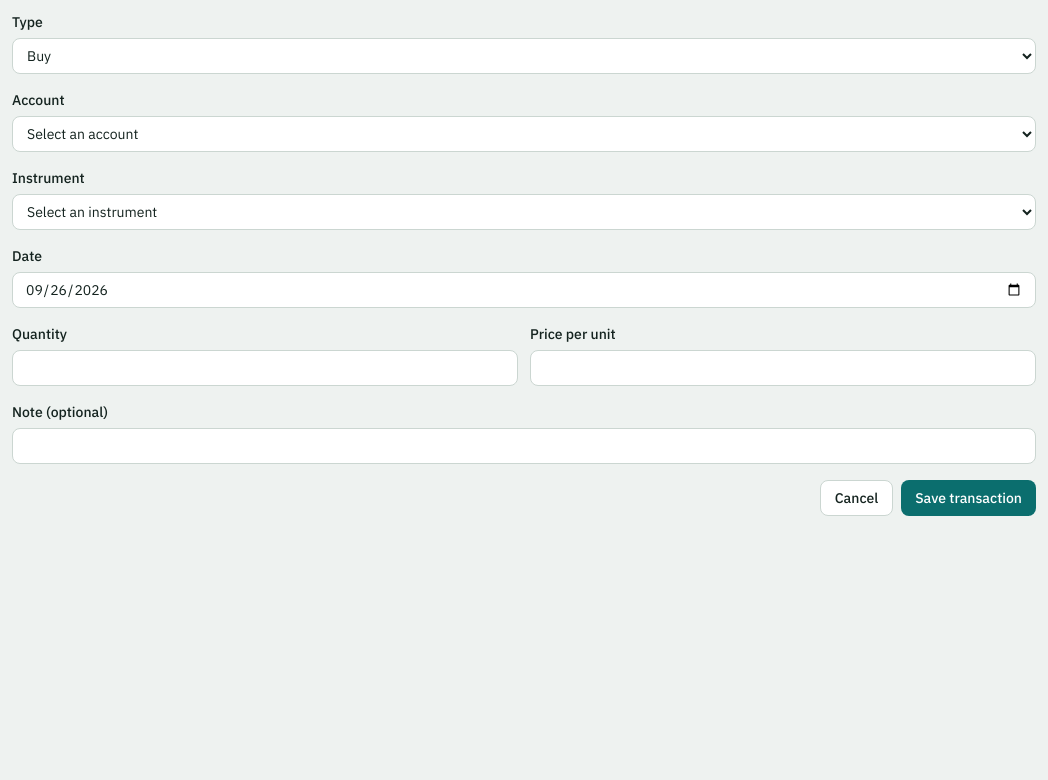
it: TransactionForm › requires an account and an instrument
Click the button "Save transaction" at coordinates (969, 498), box [901,480,1036,516]
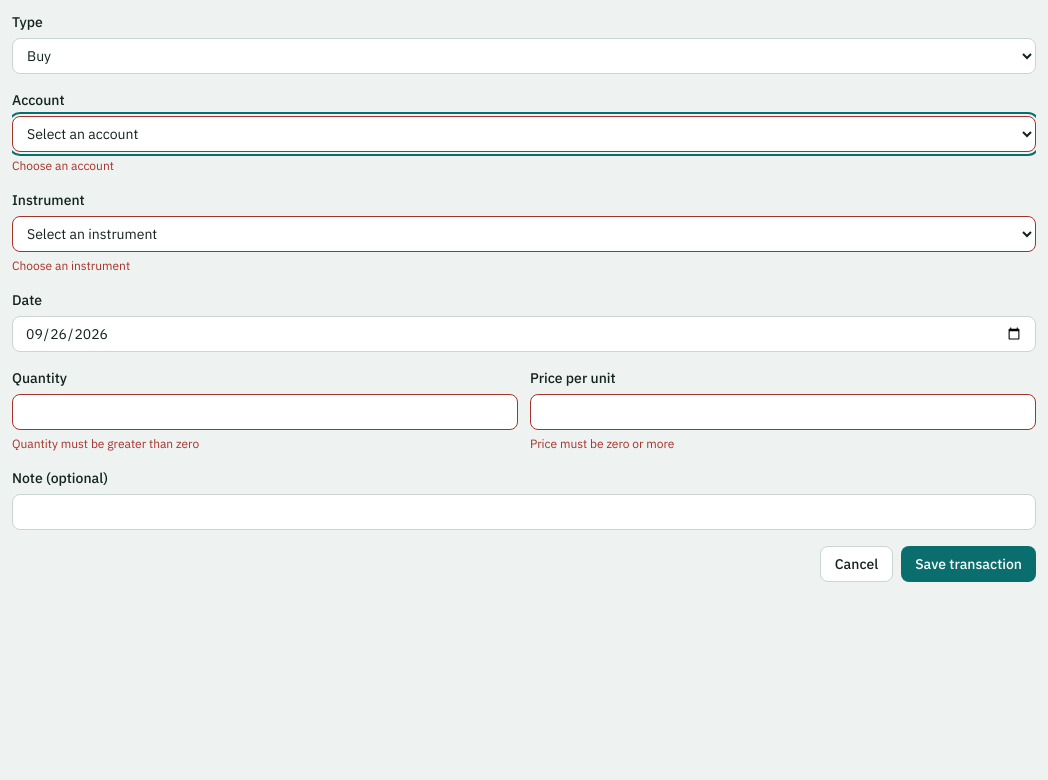
Expected: the text "Choose an account" is shown, [12,158,114,173]
Expected: the text "Choose an instrument" is shown, [12,258,130,273]
